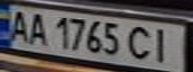1: (48, 14, 69, 50)
5: (100, 20, 127, 57)
6: (84, 18, 106, 55)
7: (66, 16, 87, 52)
A: (3, 7, 30, 44), (24, 10, 51, 46)
C: (124, 24, 157, 61)
I: (148, 25, 181, 64)
